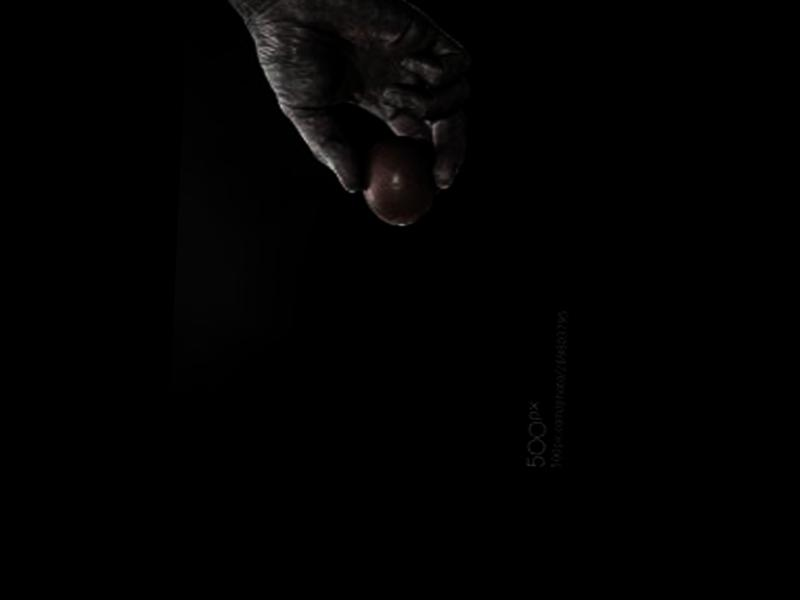Eggs: (357, 132, 437, 227)
